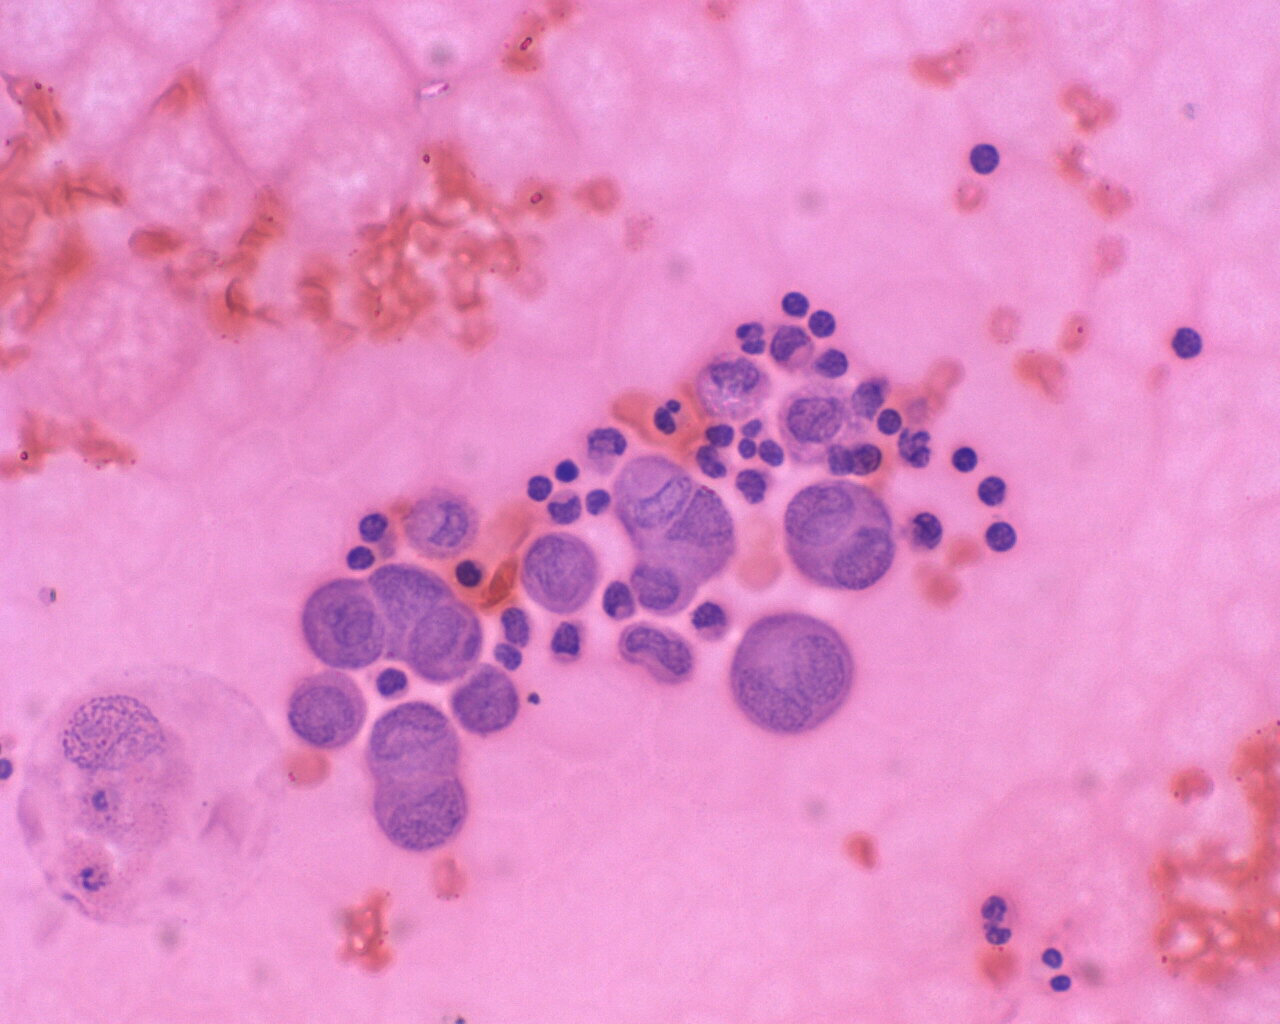ab: (726, 606, 860, 742), (783, 476, 897, 594), (364, 777, 482, 856), (300, 575, 386, 667), (365, 703, 463, 782), (521, 530, 606, 616), (404, 595, 485, 681), (288, 670, 371, 750), (451, 664, 523, 740)
lymph: (965, 139, 1007, 182), (944, 441, 980, 478), (816, 346, 852, 378), (808, 306, 838, 340), (550, 459, 584, 486)
